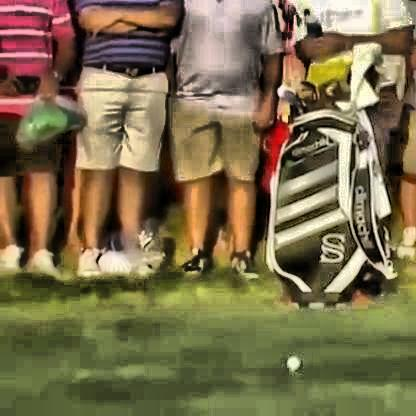golfball: (283, 348, 296, 367)
